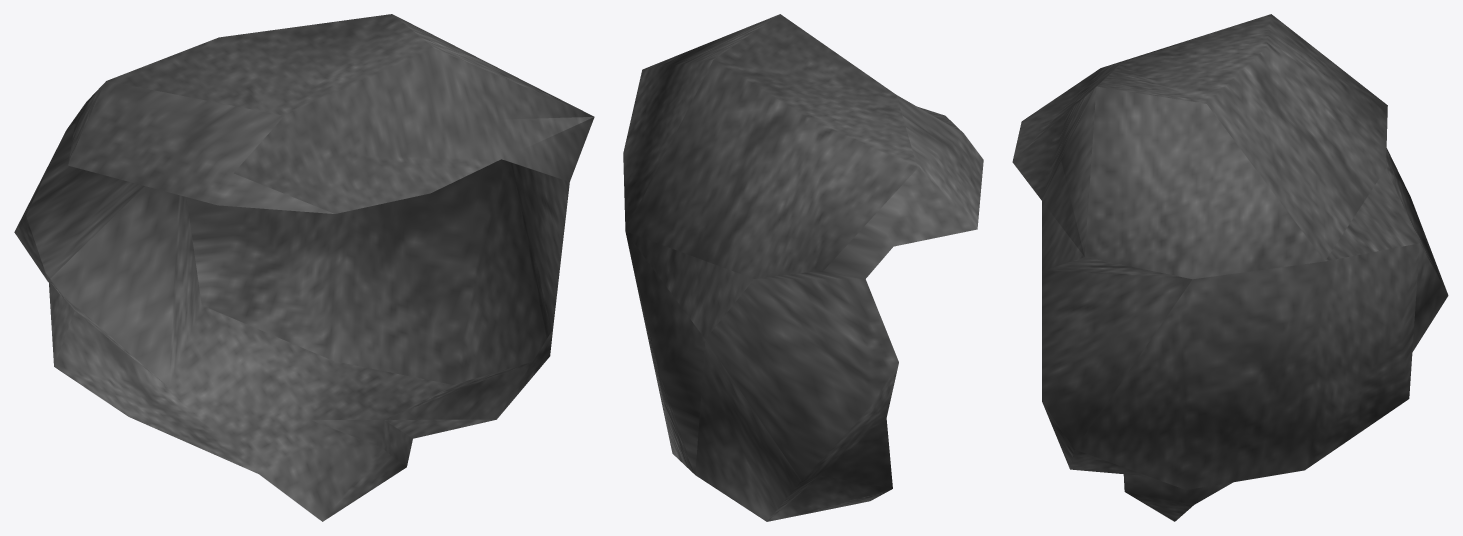
The model's file is HellWaterfallStoneB.obj.
3 views of the same model, side by side, from view 1: azimuth 30°, elevation 25°; view 2: azimuth 150°, elevation 25°; view 3: azimuth 270°, elevation 25° (orthographic). The views are drawn at different scales.
Visible parts, largest first — view 1: mesh-38.000_meshId38_name.002; view 2: mesh-38.000_meshId38_name.002; view 3: mesh-38.000_meshId38_name.002.
Part boxes in pixels (x1,y1,x2,y2): mesh-38.000_meshId38_name.002: (14, 14, 594, 521); mesh-38.000_meshId38_name.002: (623, 14, 983, 521); mesh-38.000_meshId38_name.002: (1012, 14, 1448, 521).
Bounding box in the file's own units: 806 × 844 × 712.
Materials: 1 (1 with a texture image).
